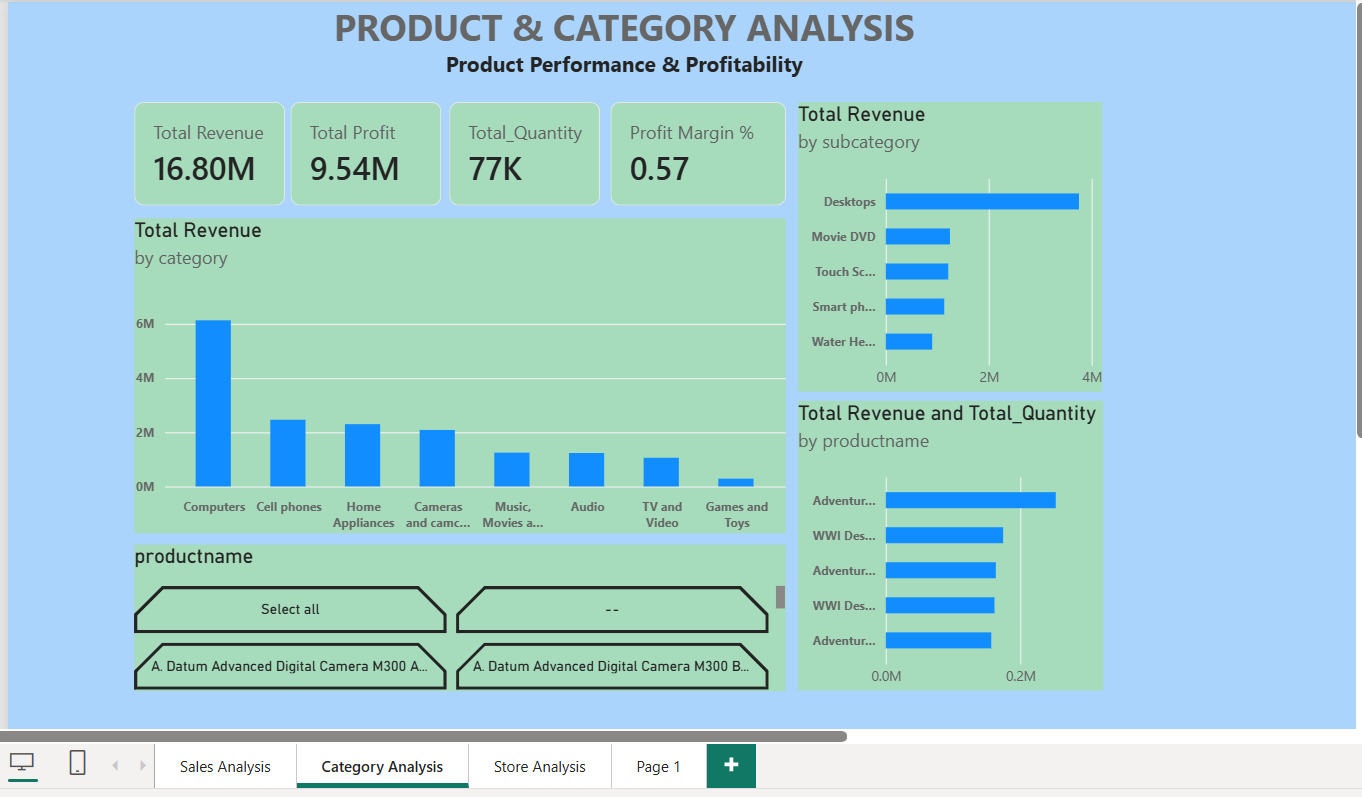

The dashboard page shown, as its layout file describes it:
{"tool":"powerbi","page":{"name":"Category Analysis","canvas":[1920,1080],"ordinal":1},"visuals":[{"type":"clusteredColumnChart","fields":{"Y":["public sales.Total Revenue"],"Category":["public products.category"]},"box":[112.2,192.2,578.9,280],"z":0},{"type":"textbox","box":[123.3,0,848.9,74.4],"z":1000},{"type":"cardVisual","fields":{"Data":["public sales.Total Revenue"]},"box":[112,89,134,92],"z":2000},{"type":"cardVisual","fields":{"Data":["public sales.Total Profit"]},"box":[251,89,134,92],"z":3000},{"type":"cardVisual","fields":{"Data":["public sales.Total_Quantity"]},"box":[392,89,134,92],"z":4000},{"type":"cardVisual","fields":{"Data":["public sales.Profit Margin %"]},"box":[535,89,156,92],"z":5000},{"type":"clusteredBarChart","fields":{"Category":["public products.subcategory"],"Y":["public sales.Total Revenue"]},"box":[702,89,270,257.5],"z":6000},{"type":"clusteredBarChart","fields":{"Y":["public sales.Total Revenue"],"Category":["public products.productname"]},"box":[702,354,271.2,257.5],"z":7000},{"type":"advancedSlicerVisual","fields":{"Values":["public products.productname"]},"box":[112.2,482.2,578.9,130],"z":8000}]}

Visuals, with their boxes on the page's 1920x1080 design canvas (x1, y1, x2, y2). These are canvas units, not pixel positions in the 1362x797 screenshot, which may show the page scaled, cropped or inside an application window:
clusteredColumnChart - public sales.Total Revenue x public products.category: crop(112, 192, 691, 472)
textbox: crop(123, 0, 972, 74)
cardVisual - public sales.Total Revenue: crop(112, 89, 246, 181)
cardVisual - public sales.Total Profit: crop(251, 89, 385, 181)
cardVisual - public sales.Total_Quantity: crop(392, 89, 526, 181)
cardVisual - public sales.Profit Margin %: crop(535, 89, 691, 181)
clusteredBarChart - public products.subcategory x public sales.Total Revenue: crop(702, 89, 972, 346)
clusteredBarChart - public sales.Total Revenue x public products.productname: crop(702, 354, 973, 612)
advancedSlicerVisual - public products.productname: crop(112, 482, 691, 612)
